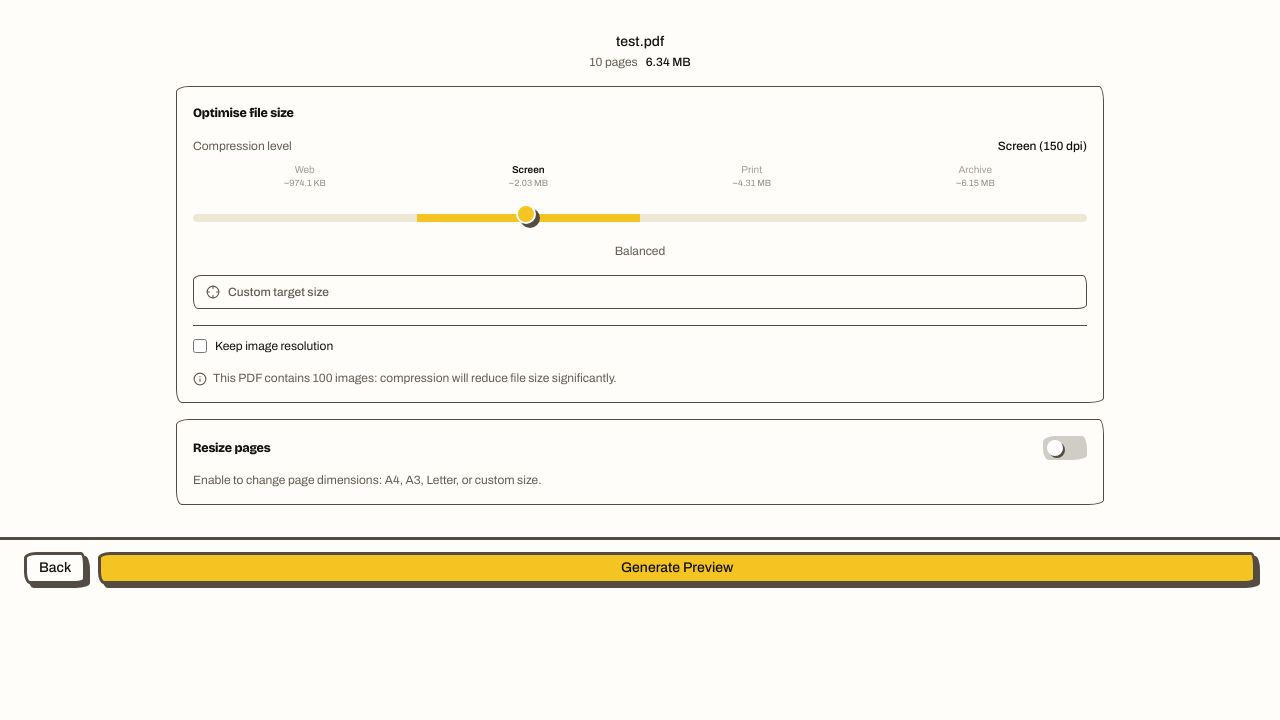
Test: ConfigureStep — keep image resolution › [CFG-KIR-05] says the estimates no longer hold once it is on
This screenshot has width=1280, height=720.
Click the checkbox with test id "keep-image-resolution" at [200, 346], box [193, 338, 207, 352]
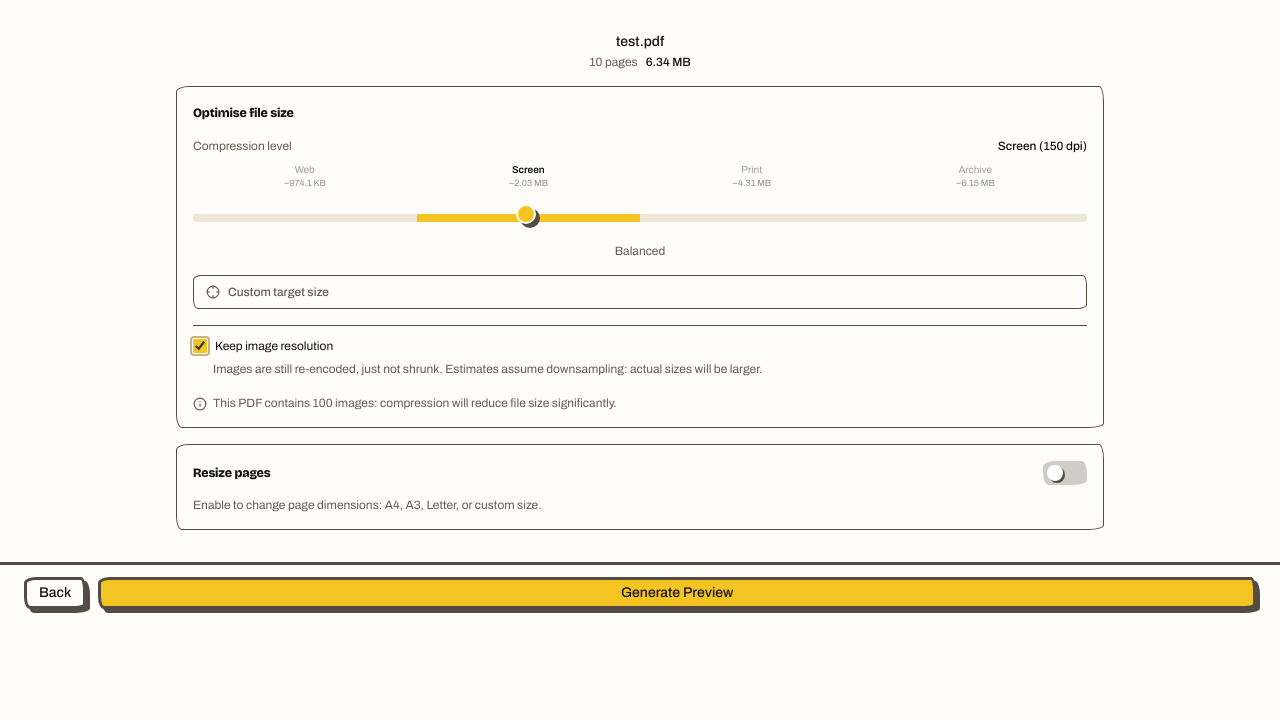
Expected: the text "actual sizes will be larger" is shown, [213, 362, 762, 376]
